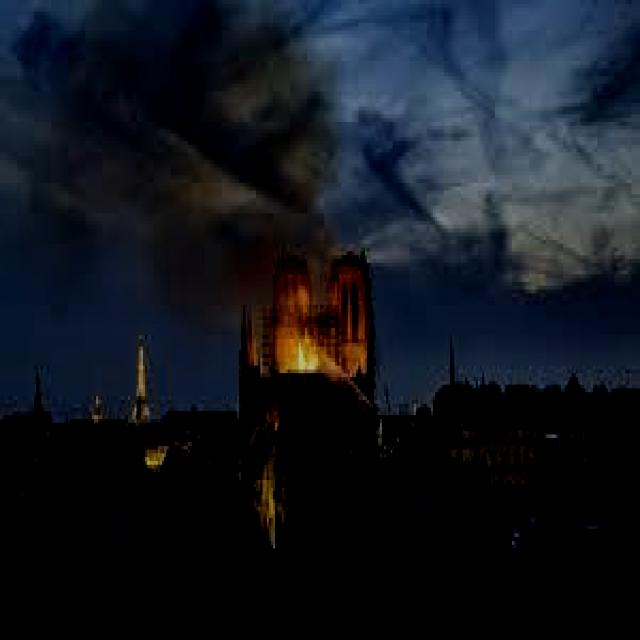fire: (280, 320, 324, 381)
